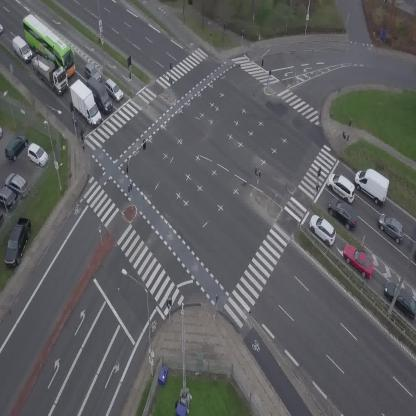bicycle: (219, 20, 228, 35), (80, 128, 86, 143)
bus: (12, 11, 86, 79)
car: (338, 238, 380, 282), (323, 194, 364, 233), (304, 210, 342, 248), (322, 169, 362, 205), (373, 209, 410, 244), (101, 76, 126, 104), (81, 61, 103, 86), (0, 23, 3, 33)
lorry: (21, 44, 76, 98), (348, 163, 396, 208), (65, 76, 104, 131), (84, 74, 116, 116), (7, 34, 37, 64)
